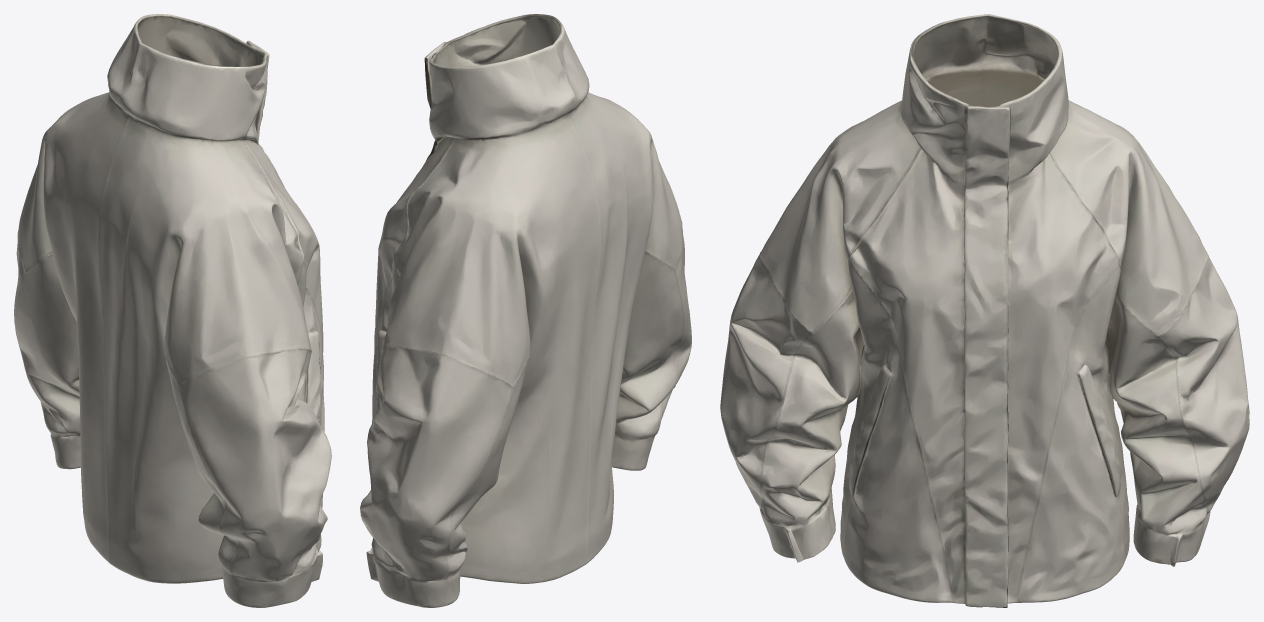
3 views of the same model, side by side, from view 1: azimuth 30°, elevation 25°; view 2: azimuth 150°, elevation 25°; view 3: azimuth 270°, elevation 25° (orthographic). The views are drawn at different scales.
Visible parts, largest first — view 1: tripo_node_ff64bc19-e99a-40b6-a9ae-02f2c89dcba1; view 2: tripo_node_ff64bc19-e99a-40b6-a9ae-02f2c89dcba1; view 3: tripo_node_ff64bc19-e99a-40b6-a9ae-02f2c89dcba1.
Part boxes in pixels (bbox=[...]): tripo_node_ff64bc19-e99a-40b6-a9ae-02f2c89dcba1: bbox=[14, 14, 331, 607]; tripo_node_ff64bc19-e99a-40b6-a9ae-02f2c89dcba1: bbox=[360, 14, 691, 607]; tripo_node_ff64bc19-e99a-40b6-a9ae-02f2c89dcba1: bbox=[720, 14, 1249, 607].
Size of the model in its own units: 0.4096 by 1 by 0.9062.
Materials: 1 (1 with a texture image).
